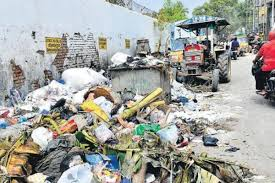garbage: (6, 83, 200, 183)
